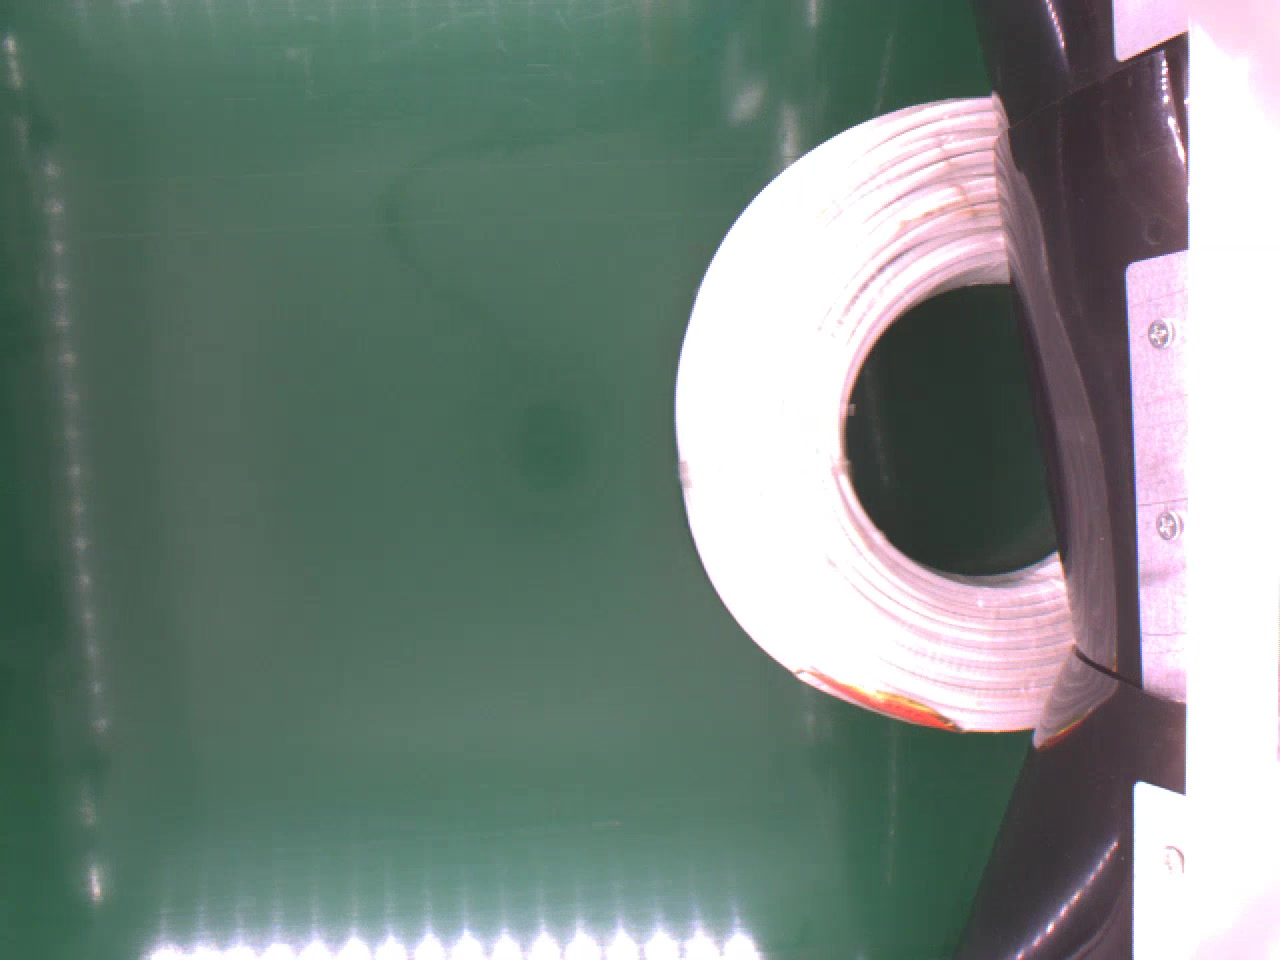white: (671, 94, 1068, 740)
